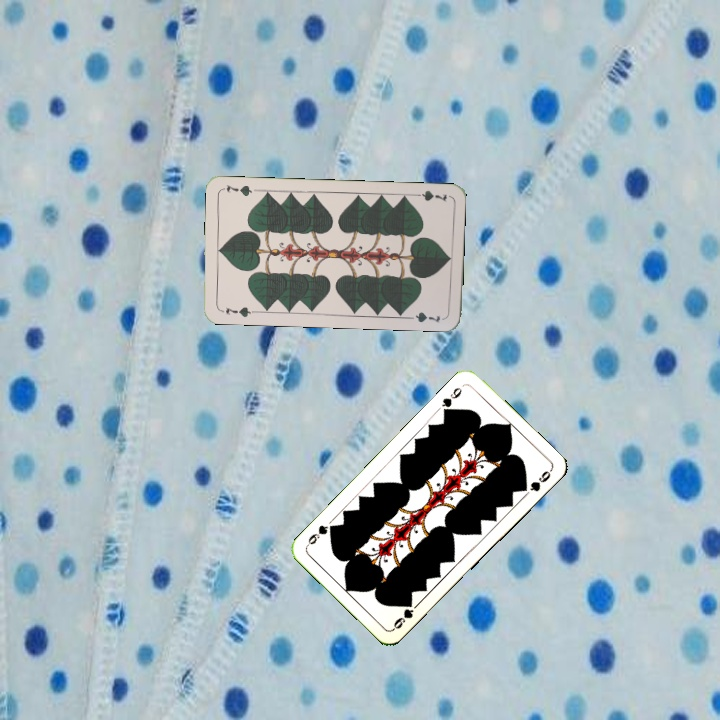G7: (409, 186, 450, 204), (222, 303, 257, 320)
G9: (389, 598, 416, 632), (437, 383, 464, 417)
